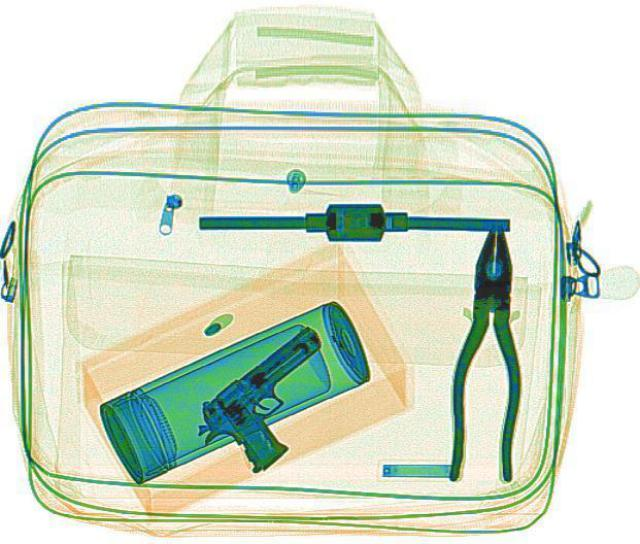Gun: (176, 319, 378, 476)
Pliers: (445, 221, 531, 482)
